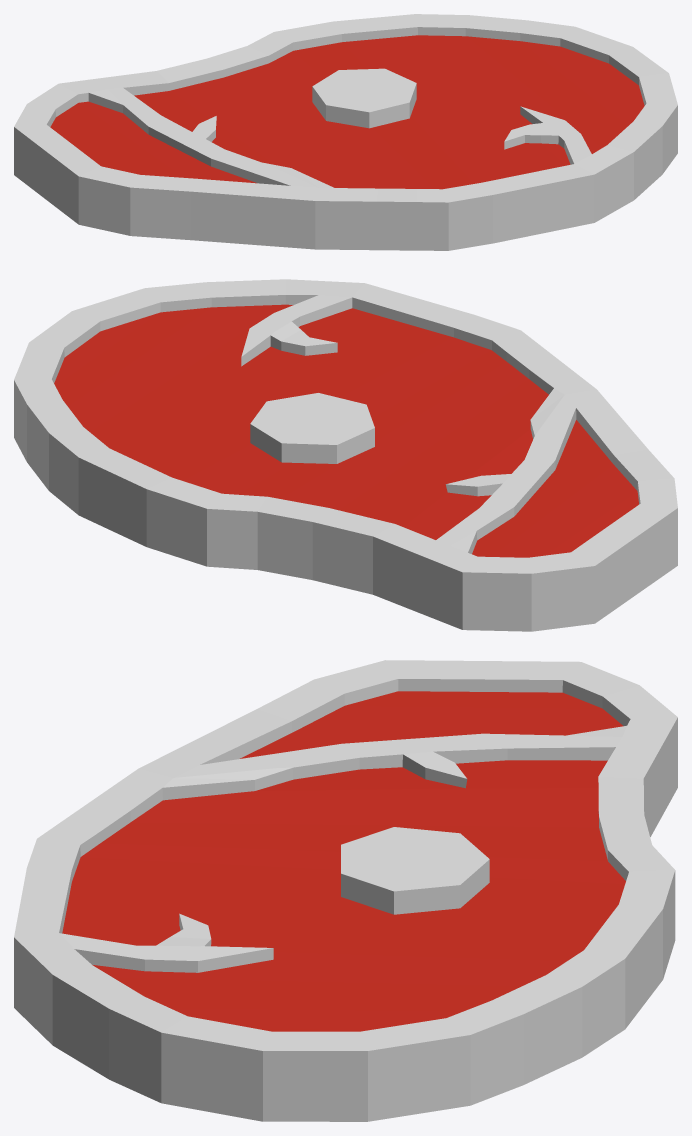
Rendered from Filete.fbx.
3 views of the same model, one above another, from view 1: azimuth 30°, elevation 25°; view 2: azimuth 150°, elevation 25°; view 3: azimuth 270°, elevation 25° (orthographic). The views are drawn at different scales.
Parts seen in each view (by area): view 1: Plane; view 2: Plane; view 3: Plane.
Boxes of the visible parts, x1,y1,x2,y2 form: Plane: (14,14,677,250); Plane: (14,279,677,631); Plane: (14,660,677,1121).
Size of the model in its own units: 320 by 35.76 by 229.
